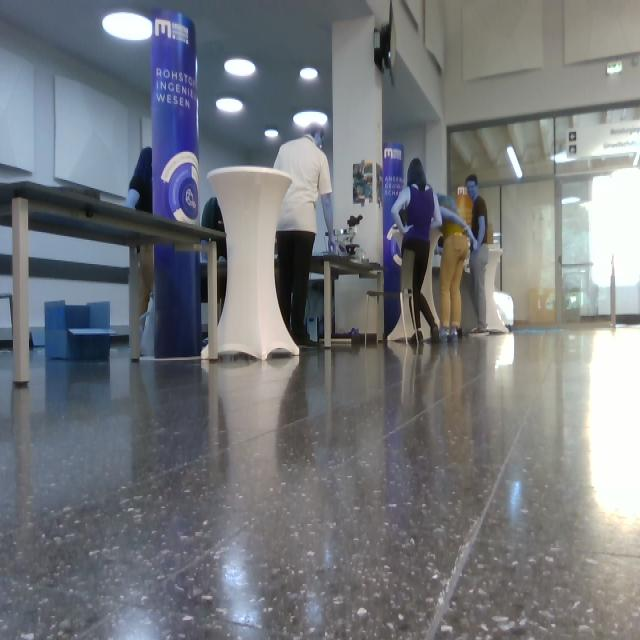carton: (46, 302, 114, 361)
desk: (209, 168, 299, 360)
door: (503, 170, 640, 324), (503, 181, 556, 325)
light bulb: (103, 13, 152, 41), (457, 186, 473, 225), (226, 58, 256, 77), (507, 146, 522, 178), (217, 98, 243, 113), (300, 68, 318, 81), (266, 129, 279, 138)
person: (275, 129, 337, 346), (392, 158, 442, 342), (441, 208, 473, 341), (467, 176, 488, 333), (127, 148, 152, 214), (139, 246, 153, 318)
pillar: (333, 17, 383, 262), (336, 276, 377, 333)
table: (1, 184, 224, 384), (312, 256, 384, 349)
tiled floor: (1, 329, 640, 640)
